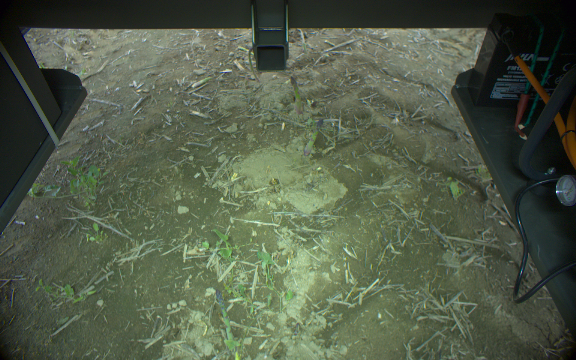aspa: (214, 287, 239, 359), (302, 117, 325, 157), (289, 74, 306, 116)
